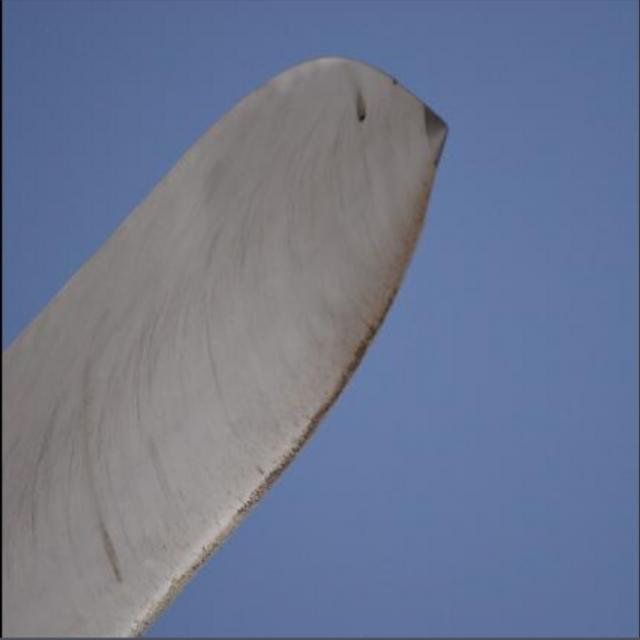Burn Mark: (355, 84, 367, 126)
EROSION: (222, 290, 425, 546), (100, 539, 221, 640)
